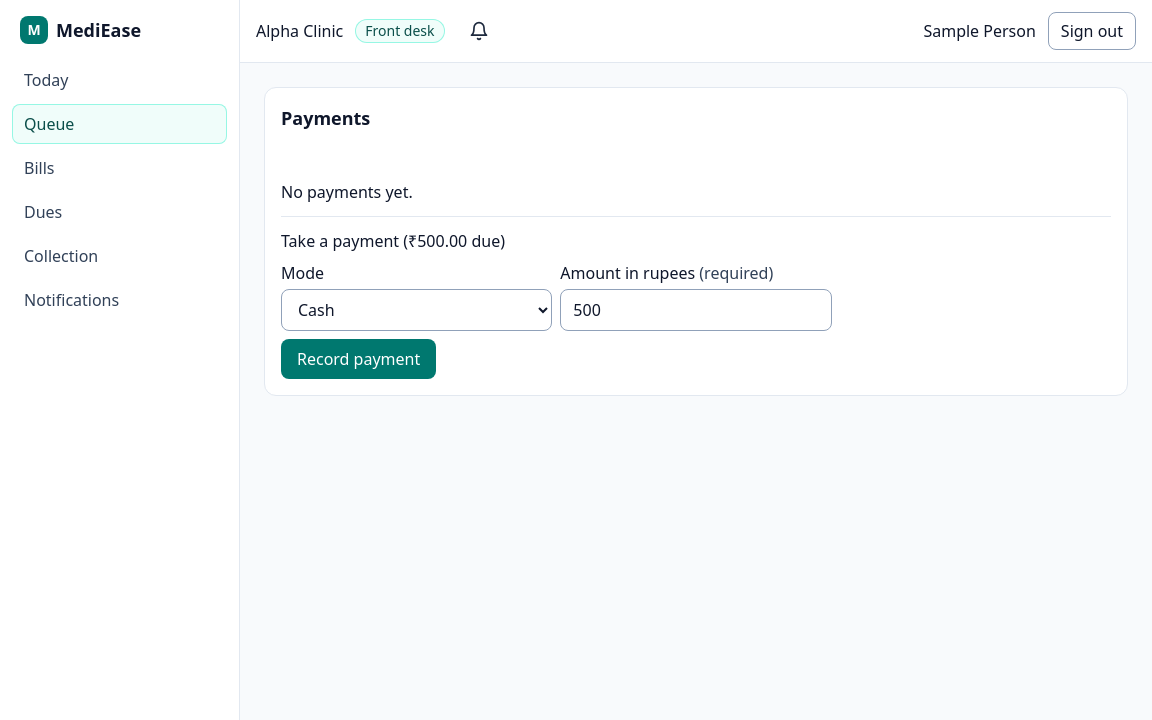
it: payments on a bill (M6d-P3, billing R31-R36) › AC9: takes a UPI payment in rupees with its reference
Expected: the field labelled "Amount in rupees (required)" holds "500", 560,289 -> 832,331
Select "UPI" in the dropdown labelled "Mode" at point(417, 310), box 281,289 -> 552,331
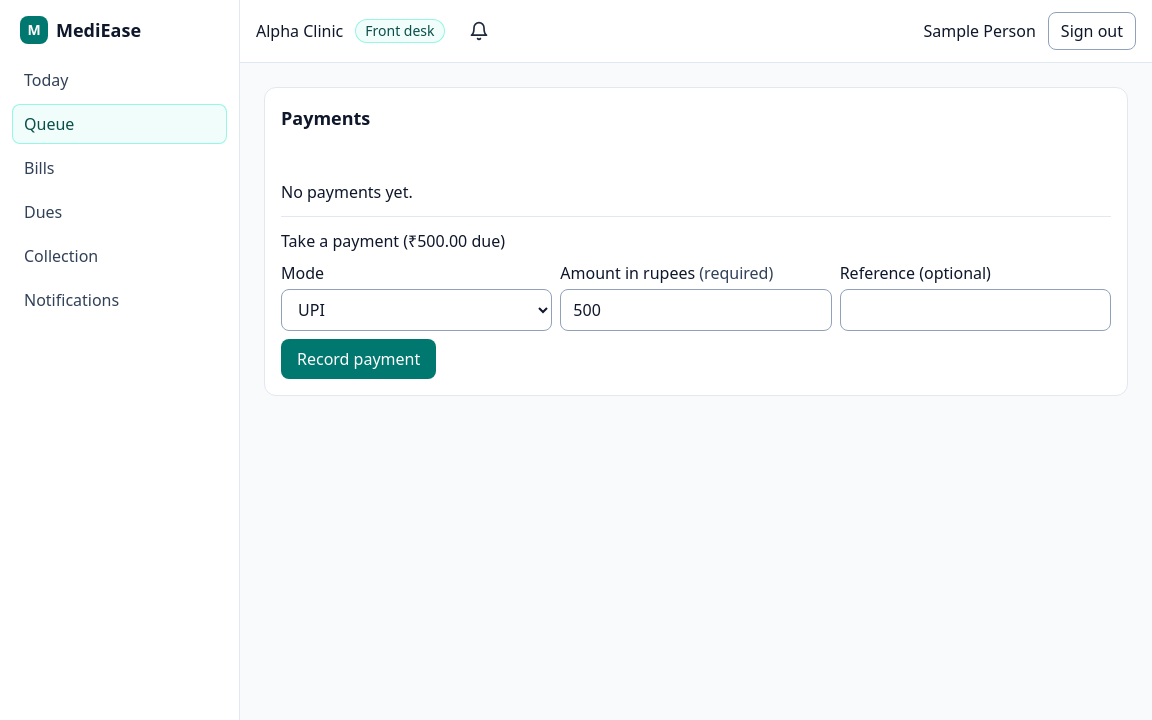
Replace the text in the field labelled "Amount in rupees (required)" with "200" at point(696, 310), box 560,289 -> 832,331
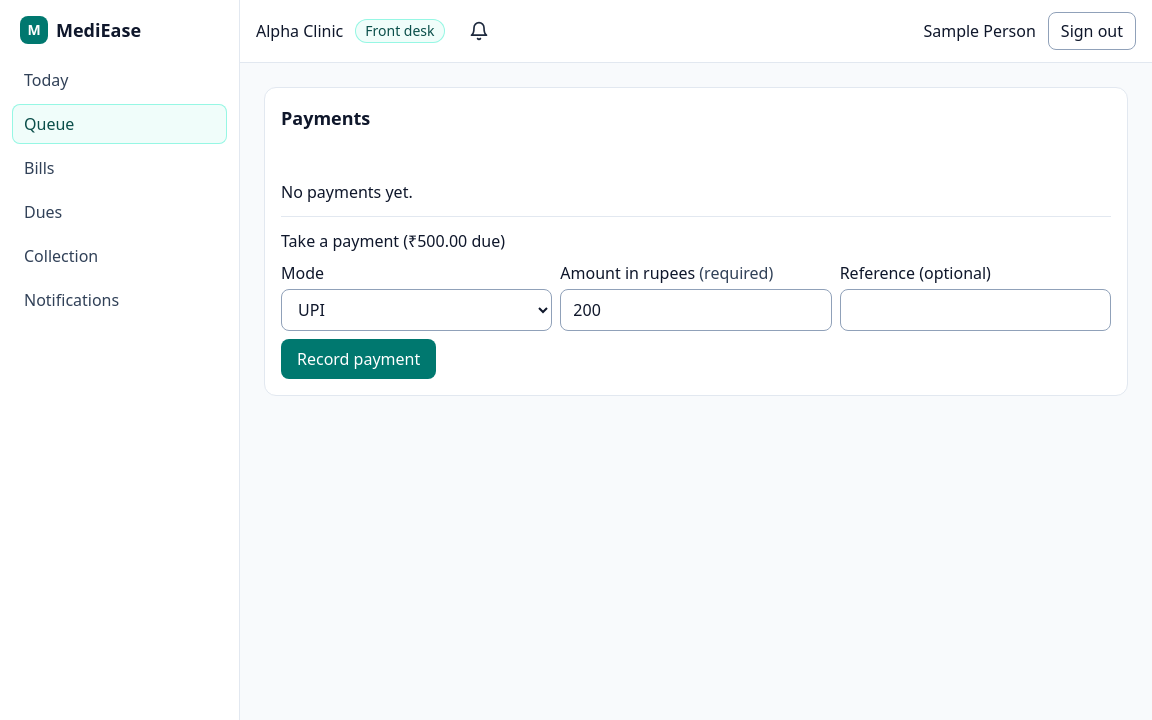
Type "UPI-1" into the field labelled "Reference (optional)" at point(975, 310), box 840,289 -> 1111,331
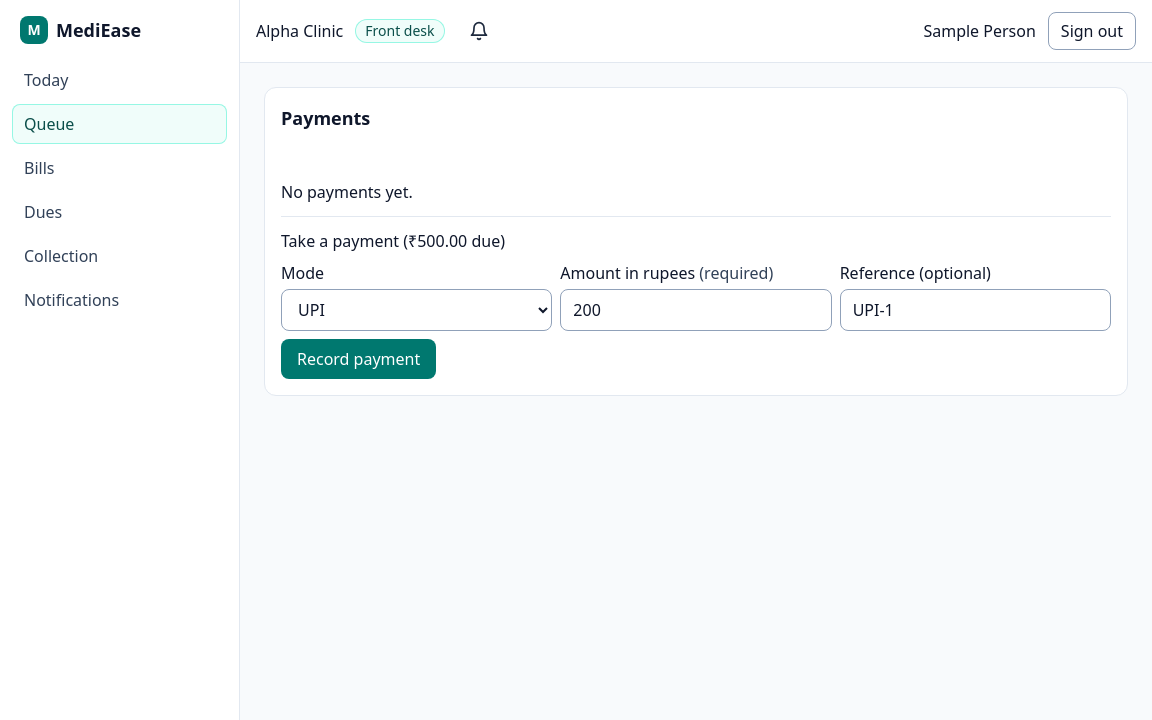
Click the button "Record payment" at point(359, 359), box 281,339 -> 436,379
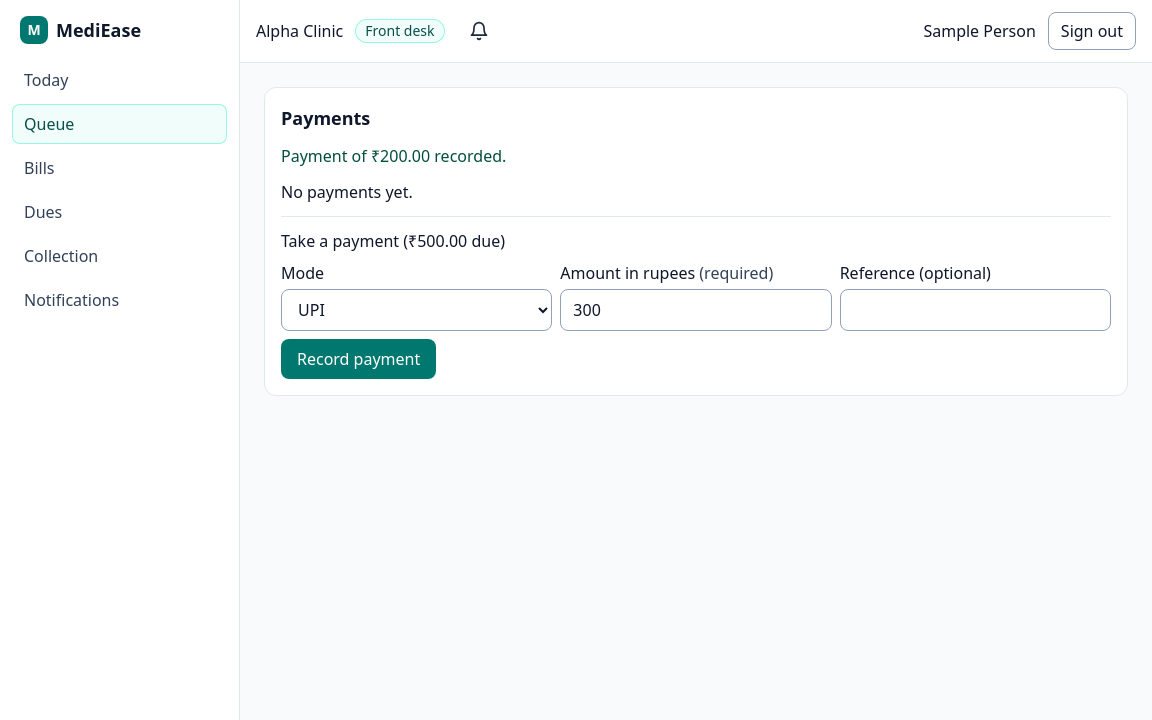
Now the text "Payment of ₹200.00 recorded." is shown, box 281,145 -> 506,167
